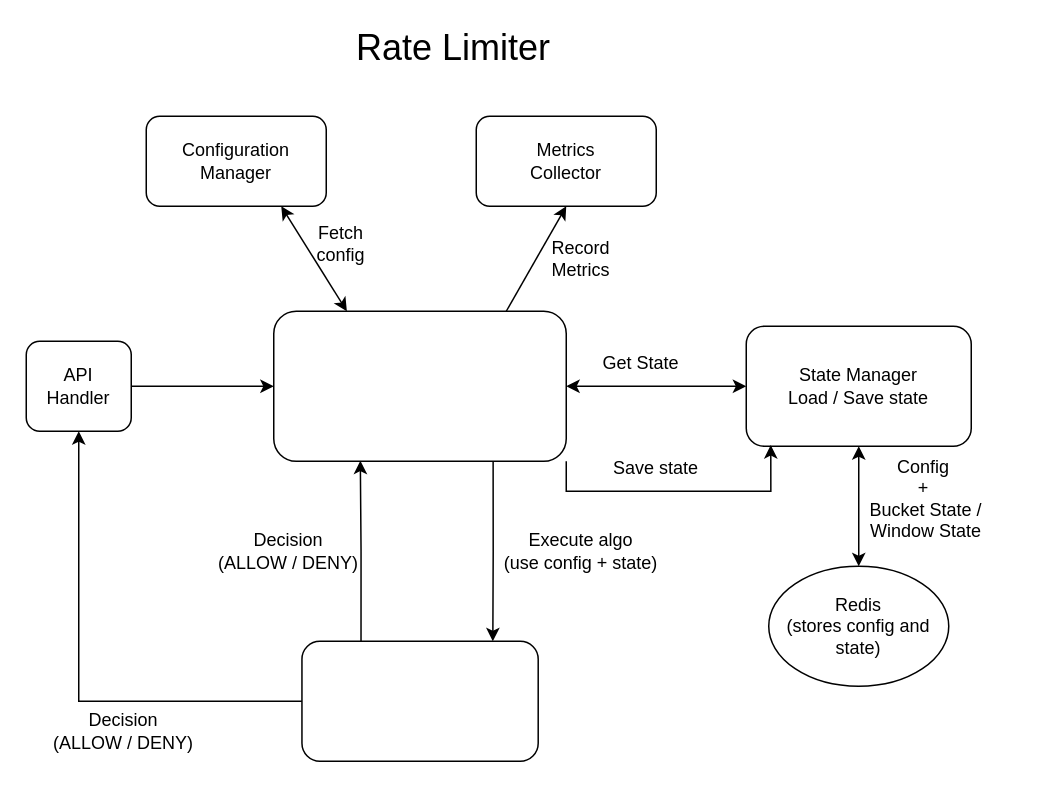
This 1043x801 diagram has some shape labels left out. The centre of each missing label's shape, as x and y in pixels:
Algorithm Manager Token Bucket / Sliding Window: point (419, 700)
Rate Limiter Manager: point (419, 385)
